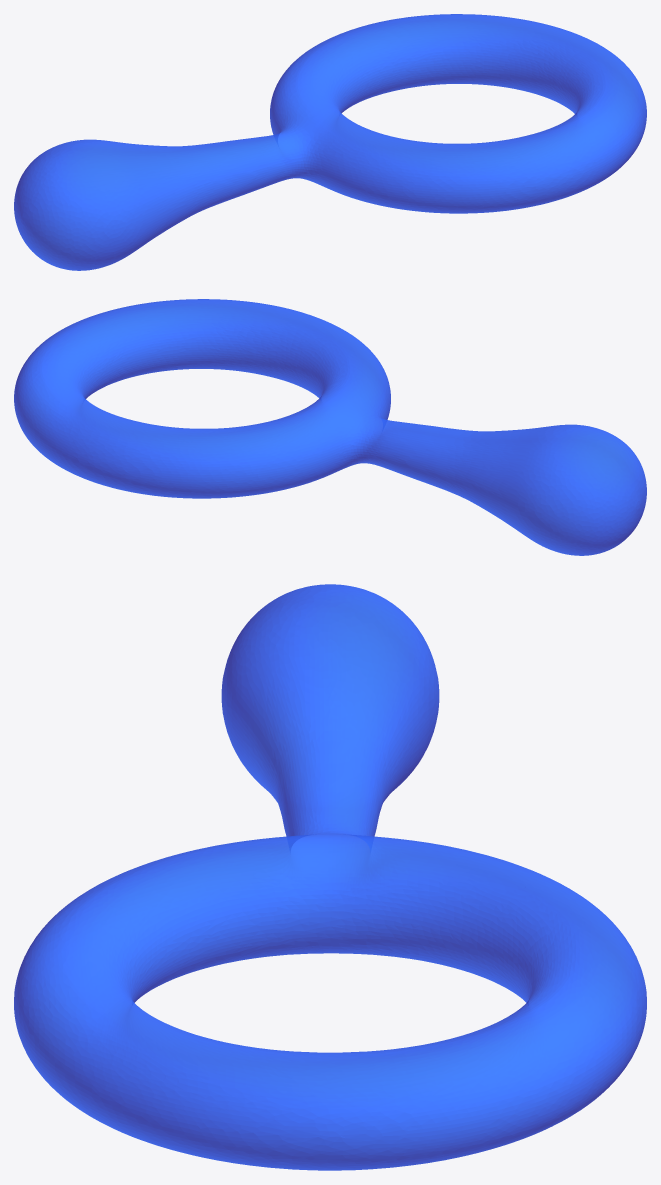
The model's file is Monoclonal antibodies part 1.fbx.
3 views of the same model, one above another, from view 1: azimuth 30°, elevation 25°; view 2: azimuth 150°, elevation 25°; view 3: azimuth 270°, elevation 25° (orthographic). The views are drawn at different scales.
Visible parts, largest first — view 1: Sphere; view 2: Sphere; view 3: Sphere.
Part boxes in pixels (<box>): Sphere: <box>14,14,646,270</box>; Sphere: <box>14,299,646,555</box>; Sphere: <box>14,584,646,1170</box>.
Size of the model in its own units: 435 by 81.6 by 237.
